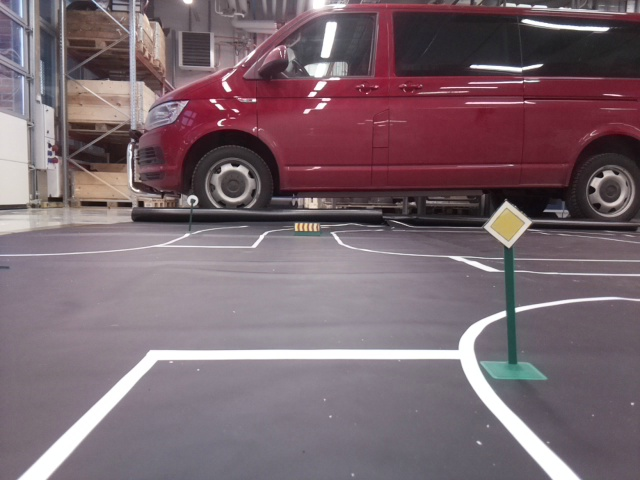Priority: (483, 201, 532, 246)
